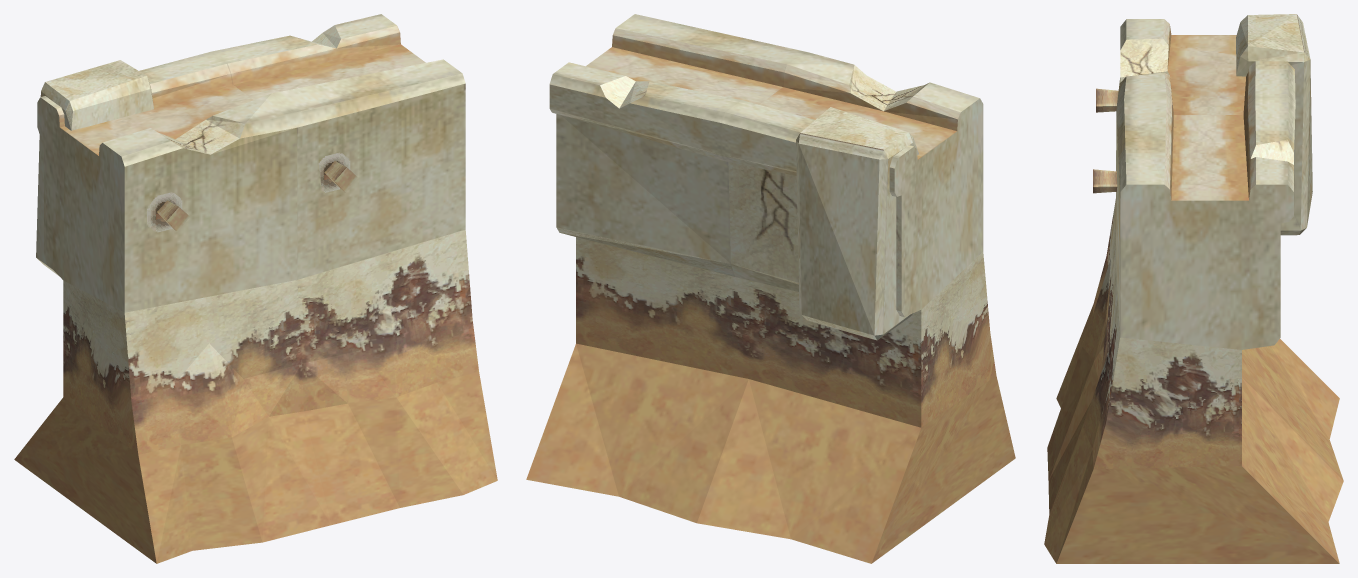
Rendered from C2SMWA10H.obj.
The picture shows the model from 3 angles, left to right: view 1: azimuth 30°, elevation 25°; view 2: azimuth 150°, elevation 25°; view 3: azimuth 270°, elevation 25°; orthographic projection.
Parts seen in each view (by area): view 1: Node 0; view 2: Node 0; view 3: Node 0.
Boxes of the visible parts, bbox=[...] form: Node 0: bbox=[14, 14, 497, 563]; Node 0: bbox=[526, 14, 1015, 563]; Node 0: bbox=[1044, 14, 1343, 563].
Bounding box in the file's own units: 10 × 11.11 × 7.65.
4 materials, 4 textured.
